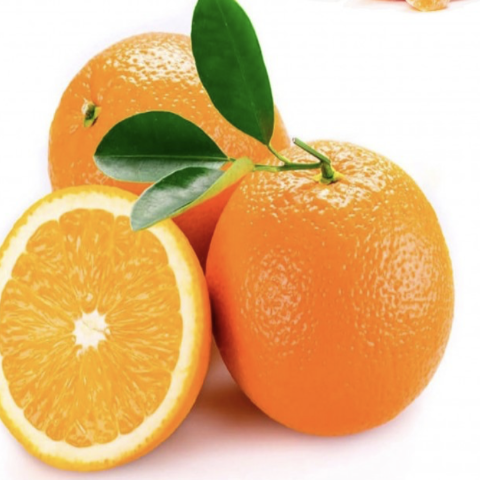orange: (188, 108, 465, 451), (40, 26, 316, 303)
